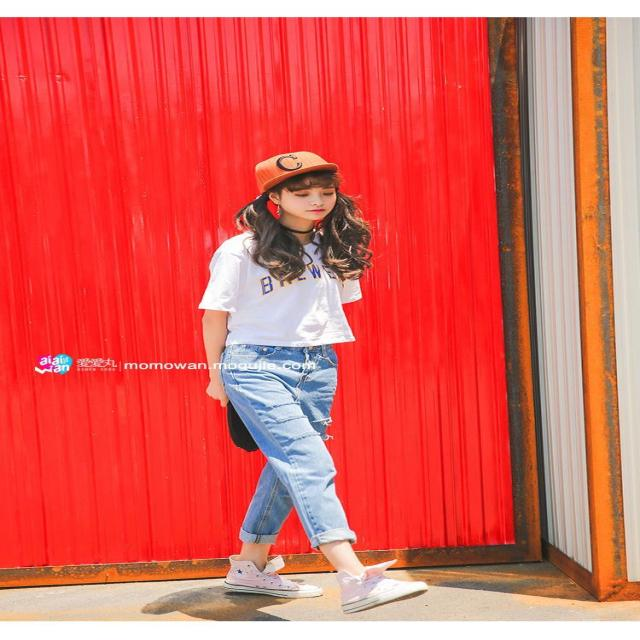short sleeve top: (198, 229, 361, 348)
trousers: (230, 340, 335, 462)
